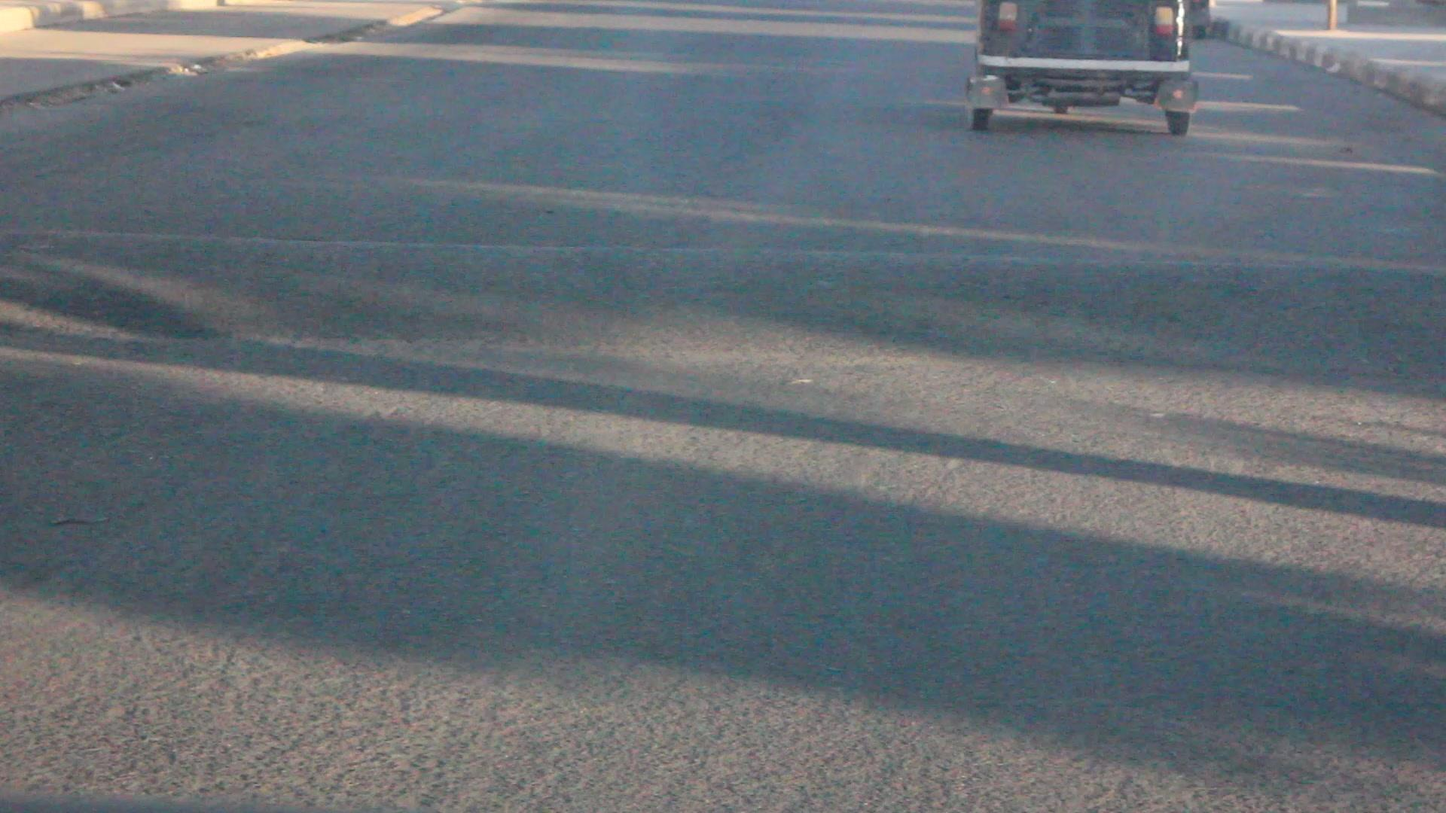Bump: (0, 213, 1446, 408)
